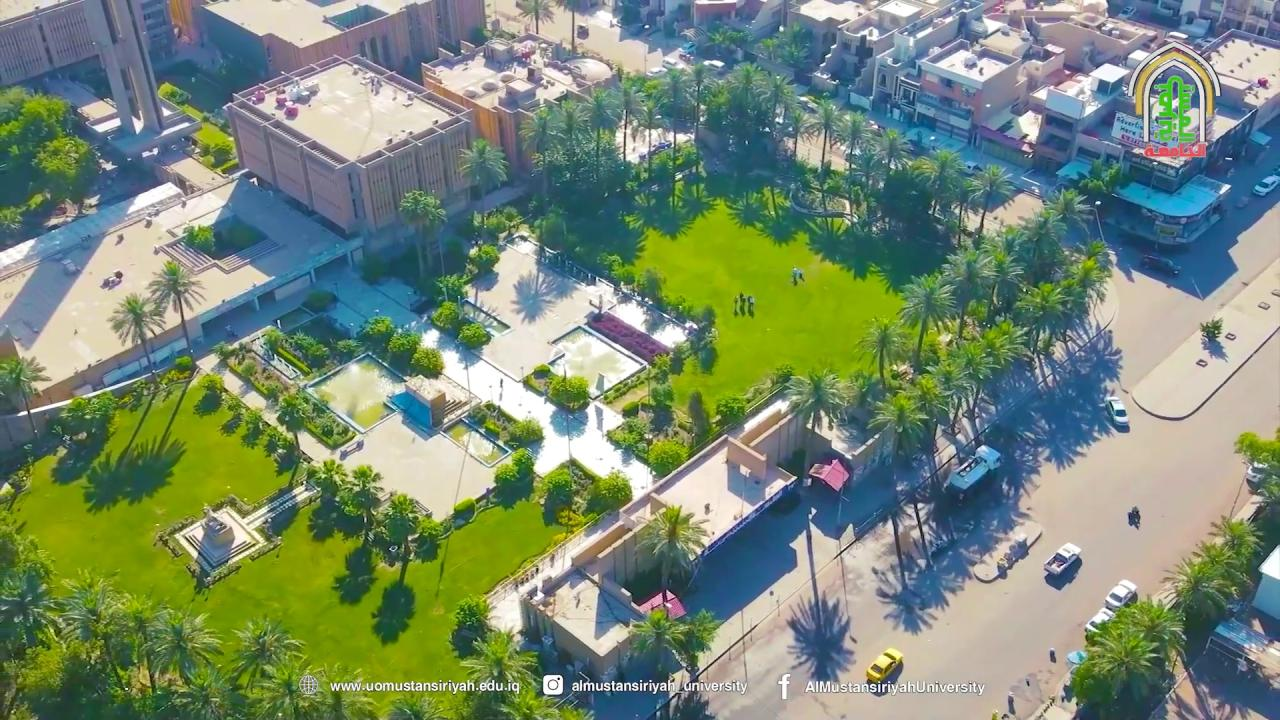car: (943, 444, 1002, 502), (1084, 579, 1138, 637), (808, 458, 849, 493), (865, 647, 903, 684), (1043, 542, 1081, 577), (1244, 460, 1278, 493), (1104, 579, 1138, 611), (1085, 607, 1116, 637), (1141, 253, 1181, 276), (1104, 395, 1129, 426), (638, 140, 673, 162), (1252, 173, 1279, 196), (963, 161, 982, 174)
fountain: (536, 326, 648, 405), (311, 355, 402, 433)
person: (1007, 691, 1015, 714)
tree: (0, 84, 100, 233), (1069, 595, 1188, 718), (625, 605, 721, 718), (632, 502, 709, 615), (942, 318, 1025, 421), (457, 626, 542, 718), (1157, 538, 1246, 623), (222, 612, 305, 692), (1107, 595, 1188, 674), (145, 606, 224, 686), (801, 93, 846, 232), (109, 591, 168, 695), (896, 270, 955, 373), (146, 258, 207, 355), (31, 133, 100, 214), (0, 567, 60, 656), (939, 244, 994, 340), (544, 373, 592, 480), (865, 390, 930, 468), (106, 291, 166, 375), (517, 105, 563, 214), (248, 655, 324, 719), (782, 365, 854, 432), (626, 606, 689, 680), (396, 188, 447, 277), (1012, 279, 1070, 357), (852, 314, 911, 389), (456, 136, 510, 217), (0, 353, 51, 434), (336, 463, 384, 547), (964, 163, 1014, 243), (578, 89, 620, 184), (913, 146, 964, 222), (1207, 512, 1264, 580), (977, 243, 1024, 325), (672, 607, 722, 682), (381, 491, 420, 585), (1233, 427, 1279, 496), (1040, 184, 1093, 243), (553, 97, 589, 182), (369, 580, 416, 645), (682, 61, 718, 144), (608, 82, 644, 163), (631, 100, 668, 177), (454, 321, 490, 399), (449, 593, 492, 658), (510, 267, 559, 324), (492, 447, 536, 509), (605, 415, 652, 471), (759, 71, 798, 138), (762, 19, 812, 69), (276, 389, 312, 458), (834, 109, 870, 171), (868, 124, 911, 172), (588, 467, 633, 512), (555, 0, 593, 53), (645, 437, 690, 480), (544, 373, 591, 412), (285, 330, 328, 370), (684, 389, 712, 445), (385, 328, 421, 371), (702, 25, 746, 58), (482, 204, 522, 240), (503, 415, 545, 449), (515, 0, 553, 35), (713, 392, 748, 428), (408, 345, 445, 379), (465, 242, 499, 277), (180, 221, 214, 252), (433, 272, 468, 302), (328, 337, 364, 365), (456, 321, 490, 350), (430, 300, 460, 331), (303, 289, 337, 314), (260, 328, 283, 360), (364, 314, 394, 338), (1199, 315, 1223, 342), (732, 291, 755, 318)
